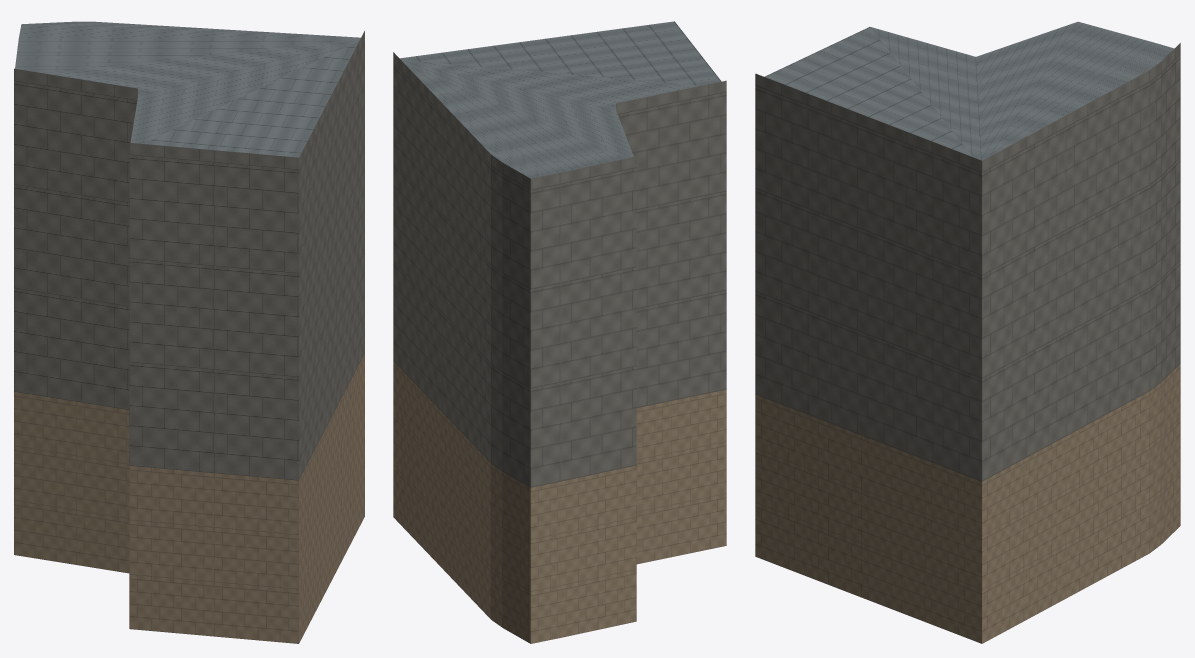
Rendered from bld_c-13_26_480.gltf.
3 renders of one model, left to right at view 1: azimuth 30°, elevation 25°; view 2: azimuth 150°, elevation 25°; view 3: azimuth 270°, elevation 25°, orthographic. The views are drawn at different scales.
Parts seen in each view (by area): view 1: bld_c-13_26_480; view 2: bld_c-13_26_480; view 3: bld_c-13_26_480.
Part boxes in pixels (x1,y1,x2,y2): bld_c-13_26_480: [14, 21, 364, 643]; bld_c-13_26_480: [393, 21, 726, 643]; bld_c-13_26_480: [755, 21, 1180, 643].
Bounding box in the file's own units: 9.89 × 15.18 × 12.11.
4 materials, 4 textured.
